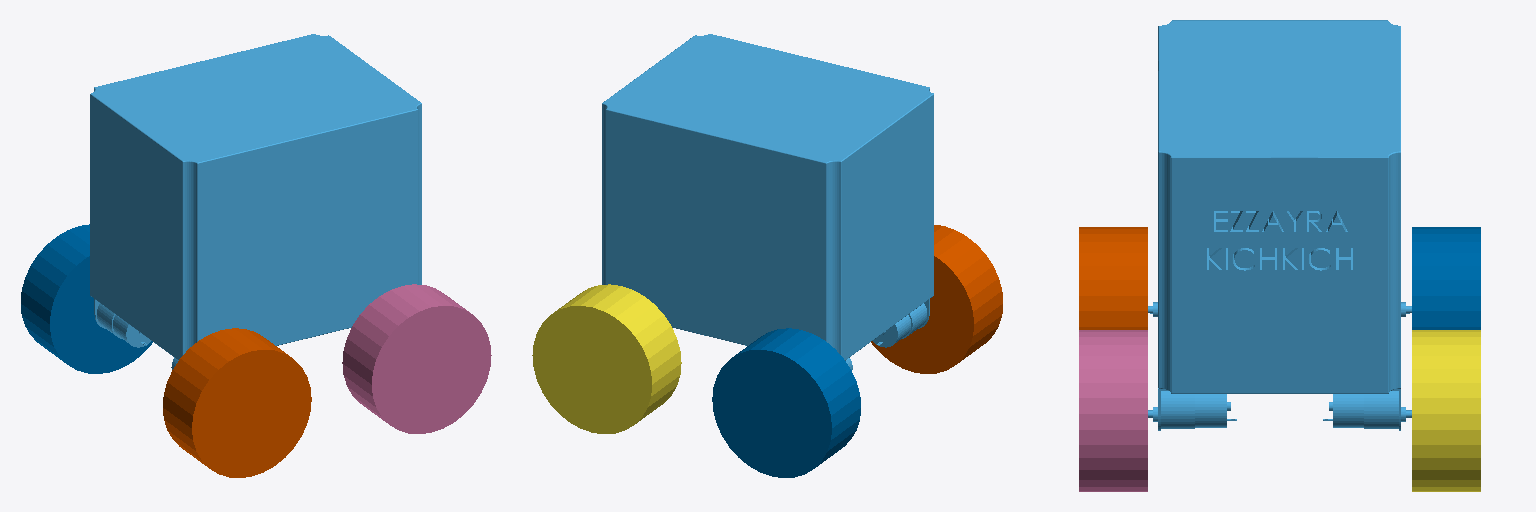
The robot description file, URDF, robot "bot":
<?xml version="1.0"?>
<robot name="bot">
    <gazebo>
        <plugin name="gazebo_ros_control" filename="libgazebo_ros_control.so">
            <legacyModeNS>true</legacyModeNS>
        </plugin>
    </gazebo>
<!--links-->

    <link name="base_footprint">
        <origin xyz="0.0 0.0 0.0" rpy="0.0 0.0 0.0"/>
    </link>
    <link name="base_link">
        <visual >
            <origin xyz="0.0 0.0 0.0" rpy="0.0 0.0 1.5707"/>
            <geometry>
                <mesh filename="package://bot_description/models/meshes/body.dae"/>
            </geometry>
        </visual>
        <collision>
            <origin xyz="0.0 0.0 0.0" rpy="0.0 0.0 0.0"/>
            <geometry>
                <mesh filename="package://bot_description/models/meshes/body.dae"/>
            </geometry>
        </collision>
        <inertial>
            <origin xyz="0.0 0.0 0.0" rpy="0.0 0.0 0.0"/>
            <mass value="2.78"/>
            <inertia ixx="0.0290046666667" ixy="0.0" ixz="0.0" iyy="0.022153125" iyz="0.0" izz="0.0244697916667"/>
        </inertial>
    </link>
    <link name="imu_link">
        <inertial>
            <origin xyz="0.0 0.0 0.0" rpy="0.0 0.0 0"/>
            <mass value="0.001"/>
            <inertia ixx="0.0000001" ixy="0.000000" ixz="0.000000" iyy="0.00000001" iyz="0.0" izz="0.000000001"/>
        </inertial>
        <visual>
            <origin xyz="0.0 0.0 0.0" rpy="0.0 0.0 0.0"/>
            <geometry>
                <box size="0.001 0.001 0.001"/>
            </geometry>
        </visual>
        <collision>
            <origin xyz="0.0 0.0 0.0" rpy="0.0 0.0 0.0"/>
            <geometry>
                <box size="0.001 0.001 0.001"/>
            </geometry>
        </collision>
    </link>
    <link name="RFW_link">
        <visual >
            <origin xyz="0.0 0.0 0.0" rpy="0.0 1.5707 1.5707"/>
            <geometry>
                <cylinder radius="0.065" length="0.055"/>
            </geometry>
        </visual>
        <collision>
            <origin xyz="0.0 0.0 0.0" rpy="0.0 1.5707 1.5707"/>
            <geometry>
                <cylinder radius="0.065" length="0.055"/>
            </geometry>
        </collision>
        <inertial>
            <origin xyz="0.0 0.0 0.0" rpy="0.0 1.5707 1.5707"/>
            <mass value="0.156"/>
            <inertia ixx="0.000211575" ixy="0.0" ixz="0.0" iyy="0.000211575" iyz="0.0" izz="0.00032955"/>
        </inertial>
    </link>
    <link name="LFW_link">
        <visual >
            <origin xyz="0.0 0.0 0.0" rpy="0.0 1.5707 1.5707"/>
            <geometry>
                <cylinder radius="0.065" length="0.055"/>
            </geometry>
        </visual>
        <collision>
            <origin xyz="0.0 0.0 0.0" rpy="0.0 1.5707 1.5707"/>
            <geometry>
                <cylinder radius="0.065" length="0.055"/>
            </geometry>
        </collision>
        <inertial>
            <origin xyz="0.0 0.0 0.0" rpy="0.0 1.5707 1.5707"/>
            <mass value="0.156"/>
            <inertia ixx="0.000211575" ixy="0.0" ixz="0.0" iyy="0.000211575" iyz="0.0" izz="0.00032955"/>
        </inertial>
    </link>
    <link name="RBW_link">
        <visual >
            <origin xyz="0.0 0.0 0.0" rpy="0.0 1.5707 1.5707"/>
            <geometry>
                <cylinder radius="0.065" length="0.055"/>
            </geometry>
        </visual>
        <collision>
            <origin xyz="0.0 0.0 0.0" rpy="0.0 1.5707 1.5707"/>
            <geometry>
                <cylinder radius="0.065" length="0.055"/>
            </geometry>
        </collision>
        <inertial>
            <origin xyz="0.0 0.0 0.0" rpy="0.0 1.5707 1.5707"/>
            <mass value="0.156"/>
            <inertia ixx="0.000211575" ixy="0.0" ixz="0.0" iyy="0.000211575" iyz="0.0" izz="0.00032955"/>
        </inertial>
    </link>
    <link name="LBW_link">
        <visual >
            <origin xyz="0.0 0.0 0.0" rpy="0.0 1.5707 1.5707"/>
            <geometry>
                <cylinder radius="0.065" length="0.055"/>
            </geometry>
        </visual>
        <collision>
            <origin xyz="0.0 0.0 0.0" rpy="0.0 1.5707 1.5707"/>
            <geometry>
                <cylinder radius="0.065" length="0.055"/>
            </geometry>
        </collision>
        <inertial>
            <origin xyz="0.0 0.0 0.0" rpy="0.0 1.5707 1.5707"/>
            <mass value="0.156"/>
            <inertia ixx="0.000211575" ixy="0.0" ixz="0.0" iyy="0.000211575" iyz="0.0" izz="0.00032955"/>
        </inertial>
    </link>
<!--joints-->
    <joint name="base_joint" type="fixed">
        <origin xyz="0.0 0.0 0.0" rpy="0.0 0.0 0"/>
        <parent link="base_footprint"/>
        <child link="base_link"/>
    </joint>
    <joint name="imu_joint" type="fixed">
        <origin xyz="0.0 0.0 0.1" rpy="0.0 0.0 0.0"/>
        <parent link="base_link"/>
        <child link="imu_link"/>
    </joint>
    <joint name="LFW_joint" type="continuous">
        <origin xyz=" 0.0975 0.130 0.0" rpy="0.0 0.0 0.0"/>
        <parent link="base_link"/>
        <child link="RFW_link"/>
        <axis xyz="0.0 1.0 0.0"/>
        <limit effort="100" velocity="100"/> 
    </joint>
    <joint name="LBW_joint" type="continuous">
        <origin xyz=" -0.0975 0.130 0.0" rpy="0.0 0.0 0.0"/>
        <parent link="base_link"/>
        <child link="LFW_link"/>
        <axis xyz="0.0 1.0 0.0"/>
        <limit effort="100" velocity="100"/> 
    </joint>
    <joint name="RBW_joint" type="continuous">
        <origin xyz="-0.0975 -0.137 0.0" rpy="0.0 0.0 0.0"/>
        <parent link="base_link"/>
        <child link="RBW_link"/>
        <axis xyz="0.0 1.0 0.0"/>
        <limit effort="100" velocity="100"/> 
    </joint>
    <joint name="RFW_joint" type="continuous">
        <origin xyz="0.0975 -0.137  0.0" rpy="0.0 0.0 0.0"/>
        <parent link="base_link"/>
        <child link="LBW_link"/>
        <axis xyz="0.0 1.0 0.0"/>
        <limit effort="100" velocity="100"/> 
    </joint>


<!--gazebo plugins-->
    <gazebo reference="RFW_link">
        <mu1>20000000000.0</mu1>
	    <mu2>20000000000.0</mu2>
	    <kp>1000000.0</kp>
	    <kd>1.0</kd>
	    <material>Gazebo/Black</material>
	</gazebo>
    <gazebo reference="LFW_link">
        <mu1>20000000000.0</mu1>
	    <mu2>20000000000.0</mu2>
	    <kp>1000000.0</kp>
	    <kd>1.0</kd>
	    <material>Gazebo/Black</material>
	</gazebo>
    <gazebo reference="RBW_link">
        <mu1>20000000000.0</mu1>
	    <mu2>20000000000.0</mu2>
	    <kp>1000000.0</kp>
	    <kd>1.0</kd>
	    <material>Gazebo/Black</material>
	</gazebo>
    <gazebo reference="LBW_link">
        <mu1>20000000000.0</mu1>
	    <mu2>20000000000.0</mu2>
	    <kp>1000000.0</kp>
	    <kd>1.0</kd>
	    <material>Gazebo/Black</material>
	</gazebo>
    <gazebo reference="base_link">
	    <material>Gazebo/Orange</material>
	</gazebo>

    <gazebo>
    <plugin name="imu_plugin" filename="libgazebo_ros_imu.so">
      <alwaysOn>true</alwaysOn>
      <bodyName>base_footprint</bodyName>
      <topicName>imu</topicName>
      <serviceName>imu_service</serviceName>
      <gaussianNoise>0.0</gaussianNoise>
      <updateRate>20.0</updateRate>
    </plugin>
    </gazebo>  
    <gazebo>
        <plugin name="gps_controller" filename="libhector_gazebo_ros_gps.so">
            <alwayson>true</alwayson>
            <updaterate>1.0</updaterate>
            <bodyname>base_link</bodyname>
            <topicname>/fix</topicname>
            <velocitytopicname>/fix_velocity</velocitytopicname>
            <drift>5.0 5.0 5.0</drift>
            <gaussiannoise>0.1 0.1 0.1</gaussiannoise>
            <velocitydrift>0 0 0</velocitydrift>
            <velocitygaussiannoise>0.1 0.1 0.1</velocitygaussiannoise>
        </plugin>
    </gazebo>
<!--transmissions-->
    <transmission name="RFW_transmission">
        <type>transmission_interface/SimpleTransmission</type>
        <joint name="RFW_joint">
            <hardwareInterface>hardware_interface/VelocityJointInterface</hardwareInterface>  
        </joint>
        <actuator name="RFW_actuator">
            <mechanicalReduction>7</mechanicalReduction>
            <hardwareInterface>hardware_interface/EffortJointInterface</hardwareInterface>
        </actuator>
    </transmission>

    <transmission name="LFW_transmission">
        <type>transmission_interface/SimpleTransmission</type>
        <joint name="LFW_joint">
            <hardwareInterface>hardware_interface/VelocityJointInterface</hardwareInterface>  
        </joint>
        <actuator name="LFW_actuator">
            <mechanicalReduction>7</mechanicalReduction>
            <hardwareInterface>hardware_interface/EffortJointInterface</hardwareInterface>
        </actuator>
    </transmission>

    <transmission name="RBW_transmission">
        <type>transmission_interface/SimpleTransmission</type>
        <joint name="RBW_joint">
            <hardwareInterface>hardware_interface/VelocityJointInterface</hardwareInterface>  
        </joint>
        <actuator name="RBW_actuator">
            <mechanicalReduction>7</mechanicalReduction>
            <hardwareInterface>hardware_interface/EffortJointInterface</hardwareInterface>
        </actuator>
    </transmission>

    <transmission name="LBW_transmission">
        <type>transmission_interface/SimpleTransmission</type>
        <joint name="LBW_joint">
            <hardwareInterface>hardware_interface/VelocityJointInterface</hardwareInterface>  
        </joint>
        <actuator name="LBW_actuator">
            <mechanicalReduction>7</mechanicalReduction>
            <hardwareInterface>hardware_interface/EffortJointInterface</hardwareInterface>
        </actuator>
    </transmission>
    

</robot>

--- Facts derived from the render (not from the file) ---
3 views of the same robot in one strip: view 1: azimuth 30°, elevation 25°; view 2: azimuth 150°, elevation 25°; view 3: azimuth 270°, elevation 25° (orthographic).
Robot: bot — 7 links, 6 joints (4 continuous, 2 fixed); root link base_footprint; default pose: every joint at zero.
Links seen in each view (by area): view 1: base_link, LBW_link, RBW_link, LFW_link; view 2: base_link, RFW_link, LFW_link, RBW_link; view 3: base_link, RFW_link, LBW_link, LFW_link, RBW_link.
Boxes of the visible links, <box> form: base_link: <box>90,34,421,369</box>; LBW_link: <box>342,284,491,433</box>; RBW_link: <box>163,328,311,477</box>; LFW_link: <box>21,224,152,373</box>; base_link: <box>602,34,933,369</box>; RFW_link: <box>532,284,681,433</box>; LFW_link: <box>712,328,860,477</box>; RBW_link: <box>871,225,1002,373</box>; base_link: <box>1148,20,1411,430</box>; RFW_link: <box>1412,330,1480,491</box>; LBW_link: <box>1079,330,1147,491</box>; LFW_link: <box>1412,227,1480,329</box>; RBW_link: <box>1079,227,1147,329</box>.
Bounding box of the posed robot: 0.325 × 0.322 × 0.3046 m (x, y, z).
1 mesh visuals loaded from 1 distinct referenced files (1 Collada DAE).
